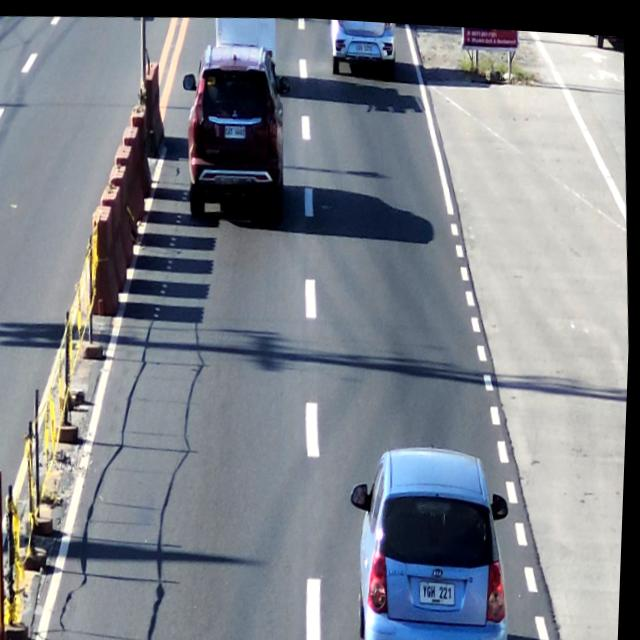Car: (355, 436, 514, 640), (180, 39, 292, 220), (328, 15, 398, 75)
License-Plate: (423, 573, 461, 604), (222, 117, 249, 141), (352, 34, 376, 52)
